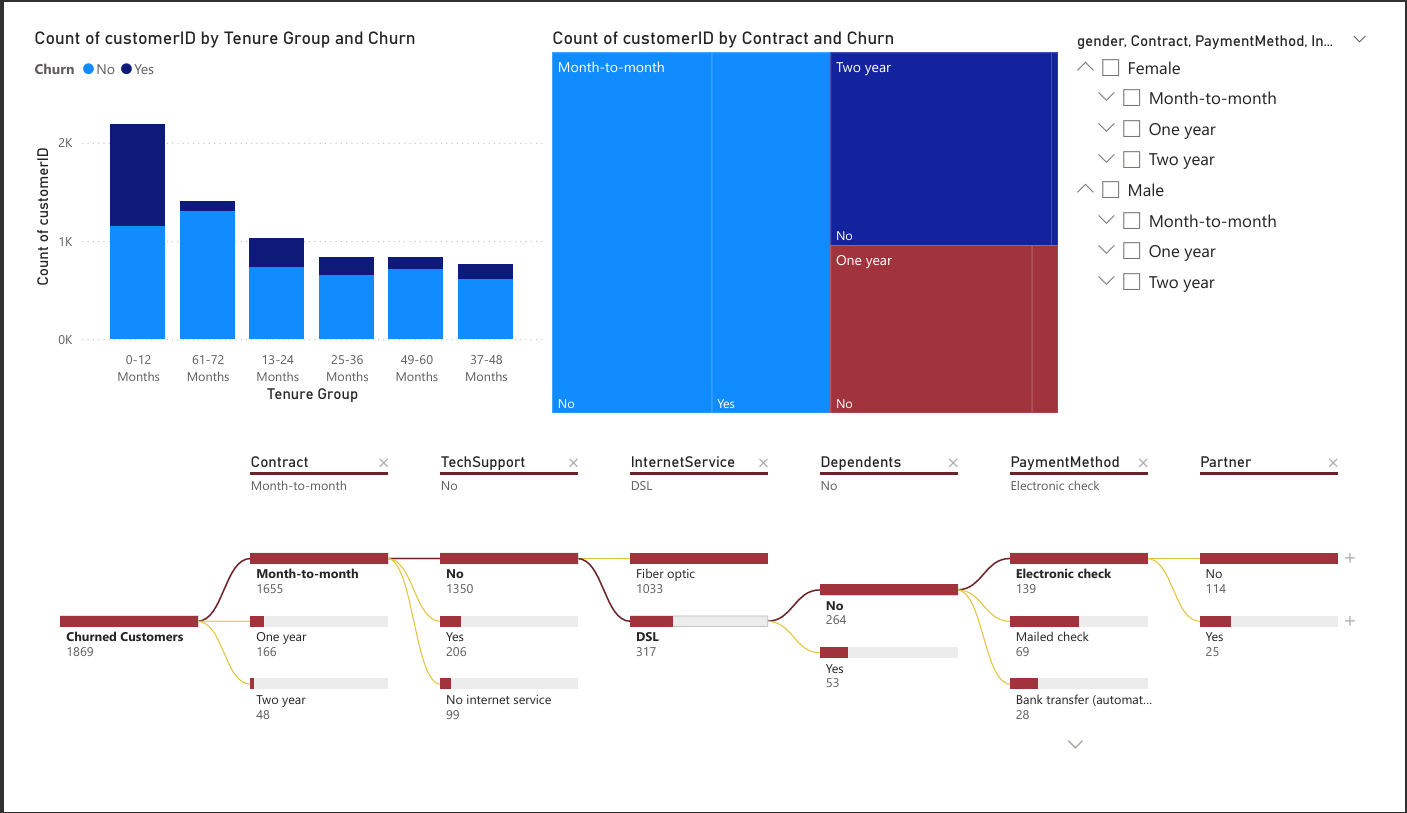

The page's visual inventory and layout, read from the dashboard file:
{"tool":"powerbi","page":{"name":"Page 2","canvas":[1280,720],"ordinal":1},"visuals":[{"type":"decompositionTreeVisual","fields":{"Analyze":["WA_Fn-UseC_-Telco-Customer-Churn.Churned Customers"],"ExplainBy":["WA_Fn-UseC_-Telco-Customer-Churn.Contract","WA_Fn-UseC_-Telco-Customer-Churn.TechSupport","WA_Fn-UseC_-Telco-Customer-Churn.InternetService","WA_Fn-UseC_-Telco-Customer-Churn.Dependents","WA_Fn-UseC_-Telco-Customer-Churn.PaymentMethod","WA_Fn-UseC_-Telco-Customer-Churn.Partner","WA_Fn-UseC_-Telco-Customer-Churn.OnlineSecurity"]},"box":[0,387.1,1280,322.9],"z":0},{"type":"columnChart","fields":{"Category":["WA_Fn-UseC_-Telco-Customer-Churn.Tenure Group"],"Y":["CountNonNull(WA_Fn-UseC_-Telco-Customer-Churn.customerID)"],"Series":["WA_Fn-UseC_-Telco-Customer-Churn.Churn"]},"box":[0,0,491.4,360],"z":1},{"type":"slicer","fields":{"Values":["WA_Fn-UseC_-Telco-Customer-Churn.gender","WA_Fn-UseC_-Telco-Customer-Churn.Contract","WA_Fn-UseC_-Telco-Customer-Churn.PaymentMethod","WA_Fn-UseC_-Telco-Customer-Churn.InternetService","WA_Fn-UseC_-Telco-Customer-Churn.SeniorCitizen"]},"box":[980,0,300,371.4],"z":2},{"type":"treemap","fields":{"Values":["CountNonNull(WA_Fn-UseC_-Telco-Customer-Churn.customerID)"],"Group":["WA_Fn-UseC_-Telco-Customer-Churn.Contract"],"Details":["WA_Fn-UseC_-Telco-Customer-Churn.Churn"]},"box":[491.4,0,488.6,371.4],"z":3}]}

Visuals, with their boxes in screenshot pixels (x1, y1, x2, y2), scaled from the page's 1280x720 canvas onto the 1407x813 screenshot:
decompositionTreeVisual - WA_Fn-UseC_-Telco-Customer-Churn.Churned Customers x WA_Fn-UseC_-Telco-Customer-Churn.Contract: detection(0, 437, 1406, 802)
columnChart - WA_Fn-UseC_-Telco-Customer-Churn.Tenure Group x CountNonNull(WA_Fn-UseC_-Telco-Customer-Churn.customerID): detection(0, 0, 540, 406)
slicer - WA_Fn-UseC_-Telco-Customer-Churn.gender x WA_Fn-UseC_-Telco-Customer-Churn.Contract: detection(1077, 0, 1406, 419)
treemap - CountNonNull(WA_Fn-UseC_-Telco-Customer-Churn.customerID) x WA_Fn-UseC_-Telco-Customer-Churn.Contract: detection(540, 0, 1077, 419)
